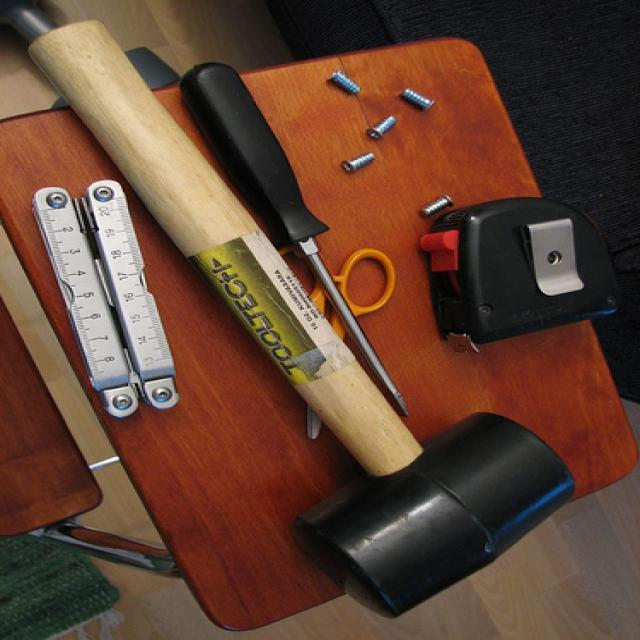hammer: (18, 17, 582, 620)
screwdriver: (172, 41, 440, 423)
